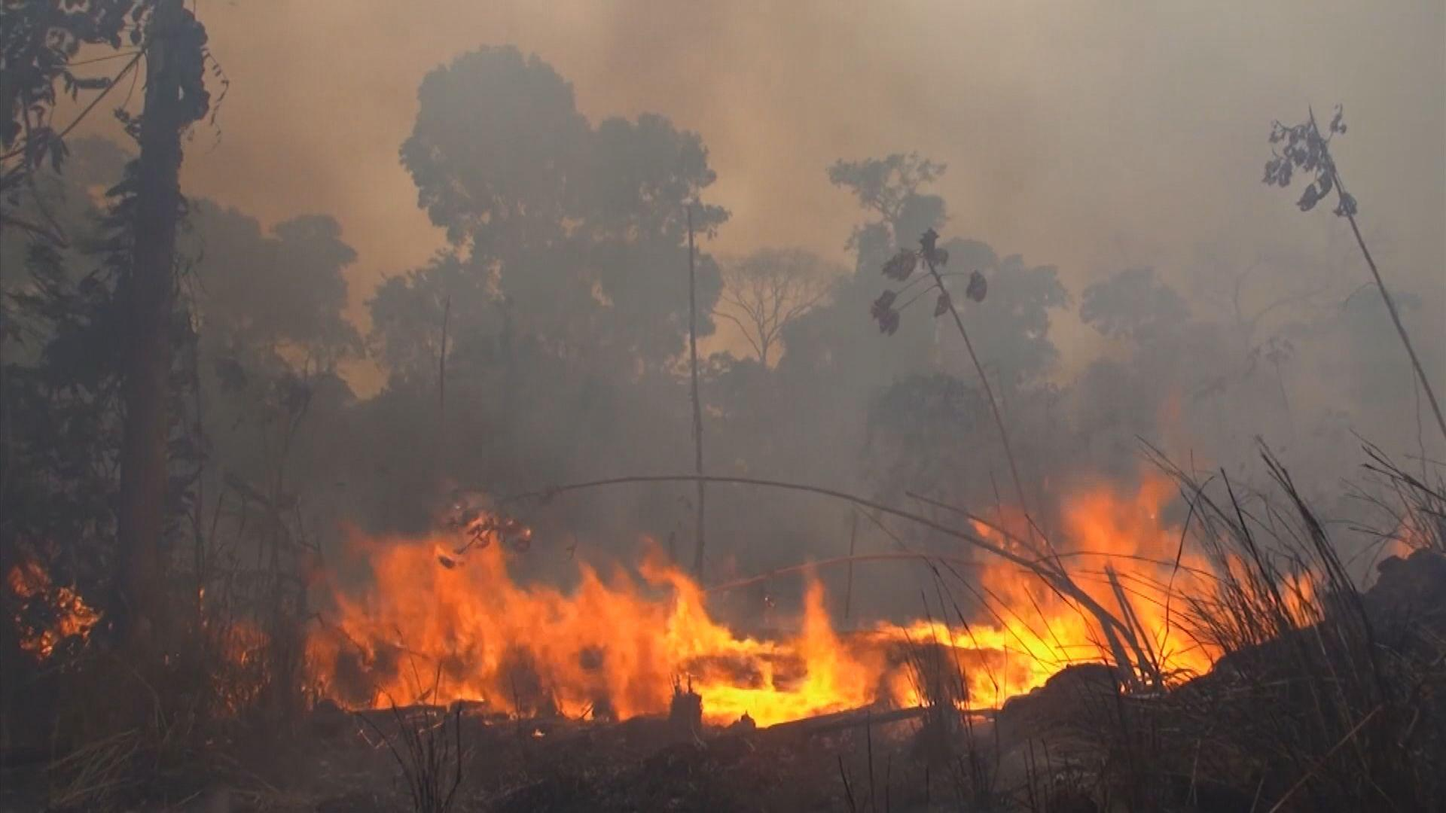fire: (236, 476, 1348, 798), (6, 415, 193, 701)
